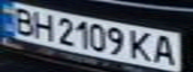0: (87, 20, 106, 53)
1: (69, 19, 90, 49)
2: (51, 15, 75, 47)
9: (106, 25, 130, 57)
A: (148, 32, 181, 66)
B: (6, 4, 39, 36)
H: (30, 9, 57, 42)
K: (124, 28, 157, 63)
